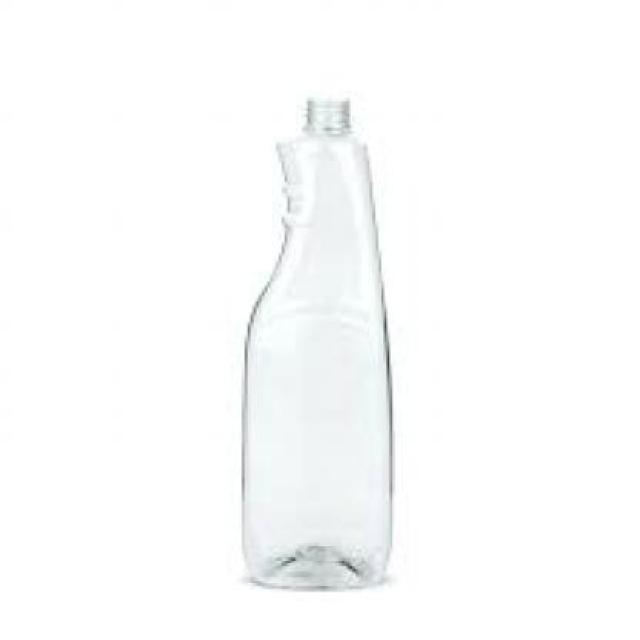kaca: (240, 97, 391, 586)
